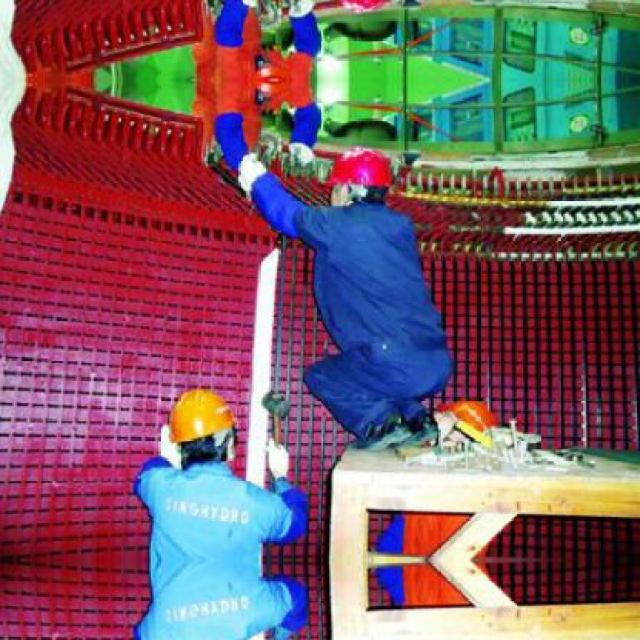helmet: (163, 382, 240, 470), (322, 148, 398, 212), (322, 0, 398, 14)
